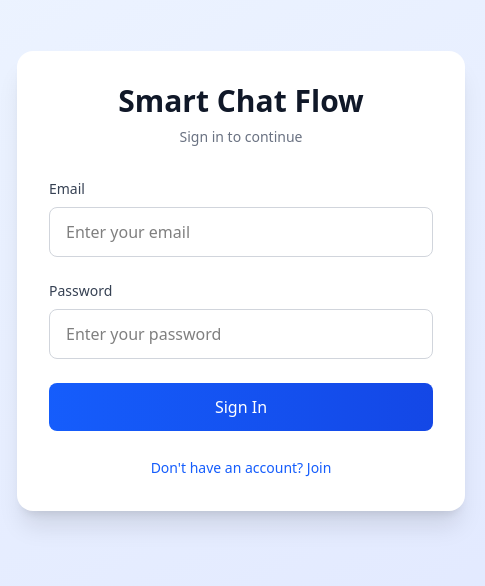
Auth Component › Login after join › shows incorrect password when compare fails
The image size is (485, 586).
Type "ada@example.com" into the field labelled "Email".
click(241, 232); type("ada@example.com")  # box [49,207,433,257]
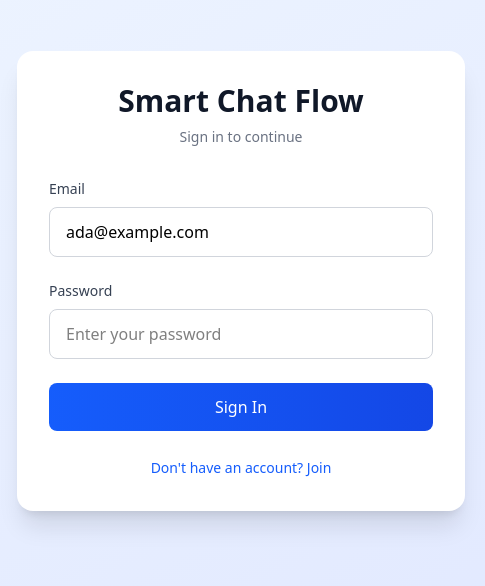
Type "wrongpass" into the password field labelled "Password".
click(241, 334); type("wrongpass")  # box [49,309,433,359]
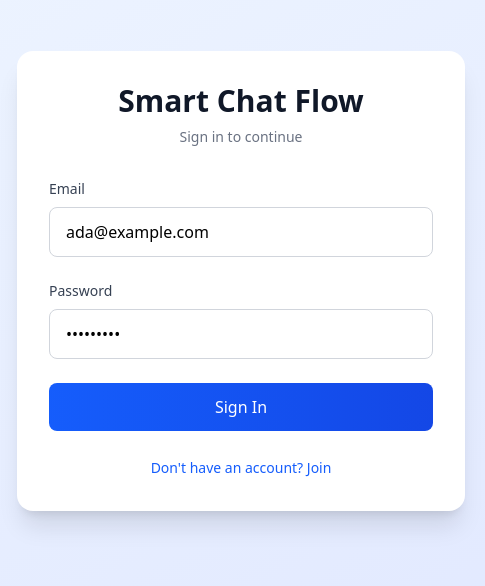
Click the button "Sign In".
click(241, 407)  # box [49,383,433,431]
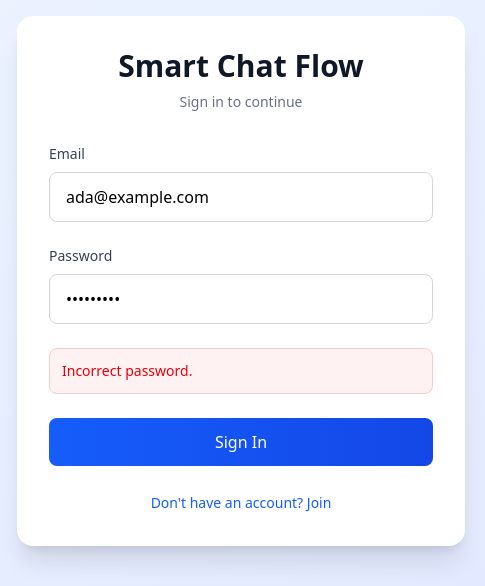
Result: the text "Incorrect password." is shown at [62,361,192,380]
